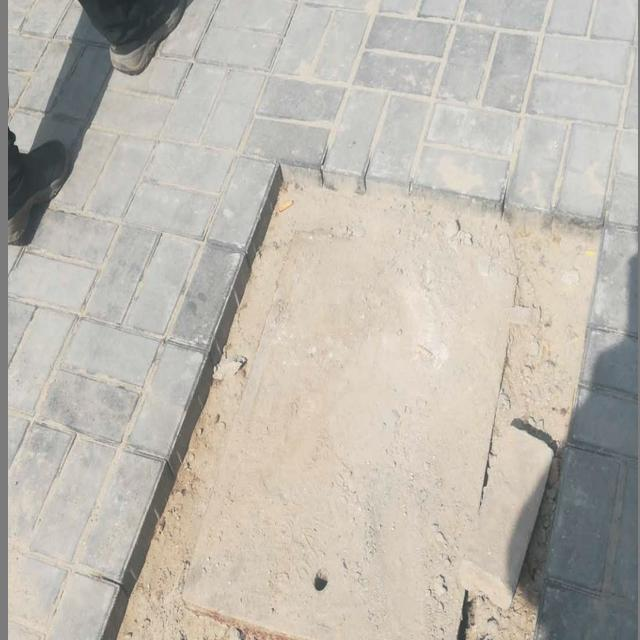circle: (78, 191, 603, 640)
